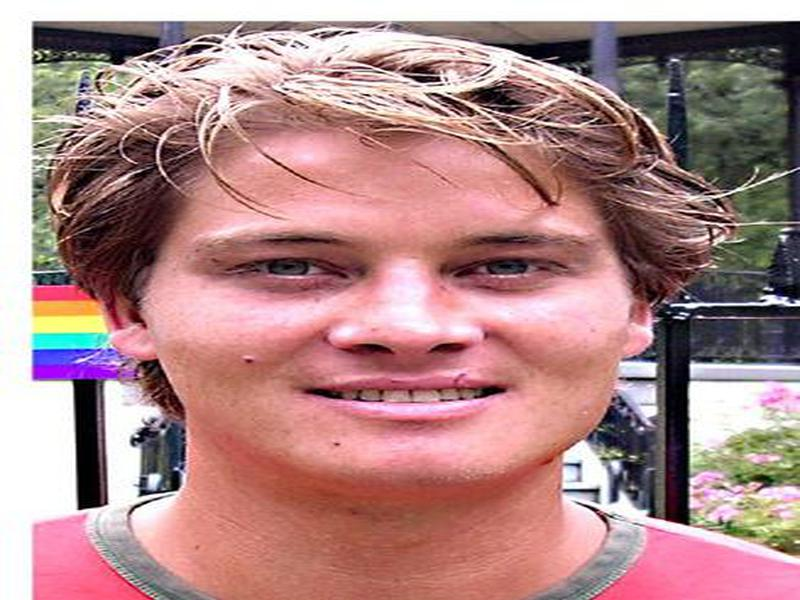without_mask: (149, 136, 627, 487)
